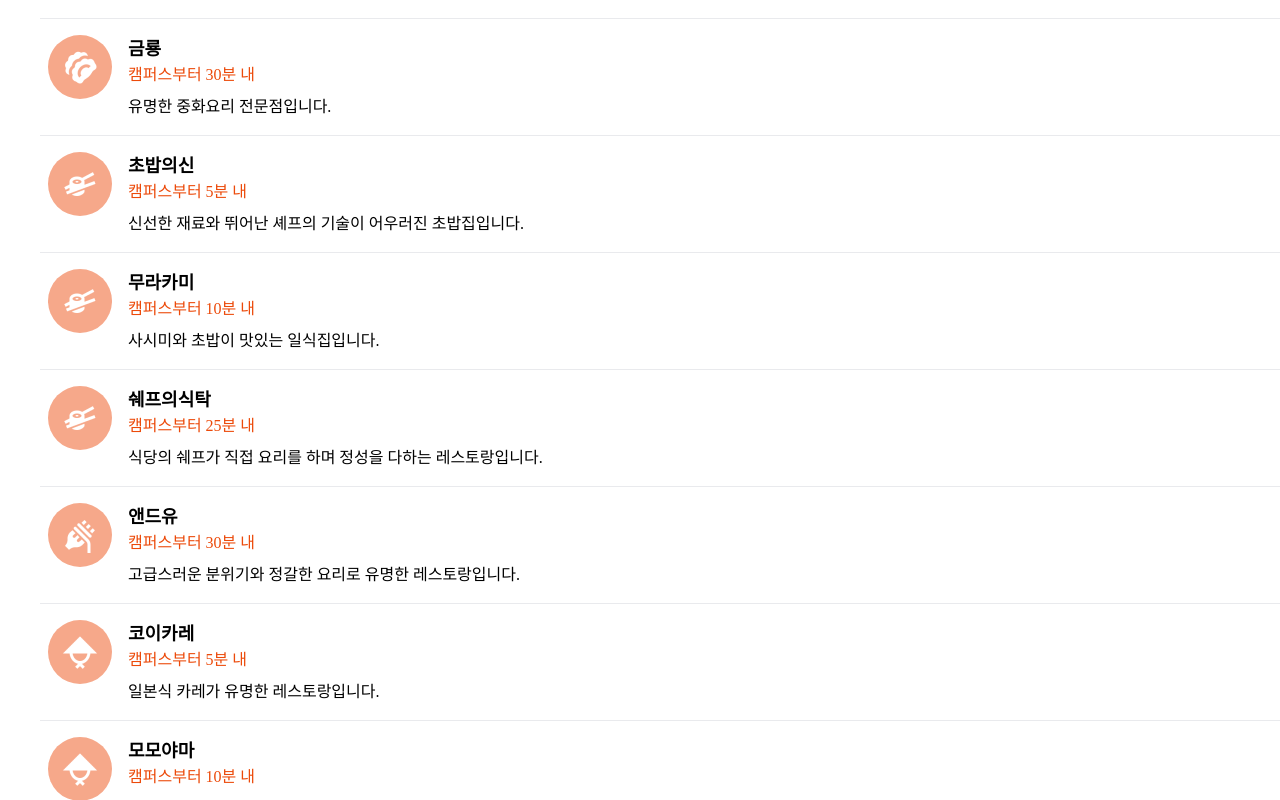
Test case: E2E 테스트 › "쉐프의식탁" 레스토랑을 선택했을 때 Bottom Sheet 창이 나타나야 한다.
(page scrolled)
Click the heading "쉐프의식탁". click: (170, 400)
box: x1=128 y1=390 x2=211 y2=410
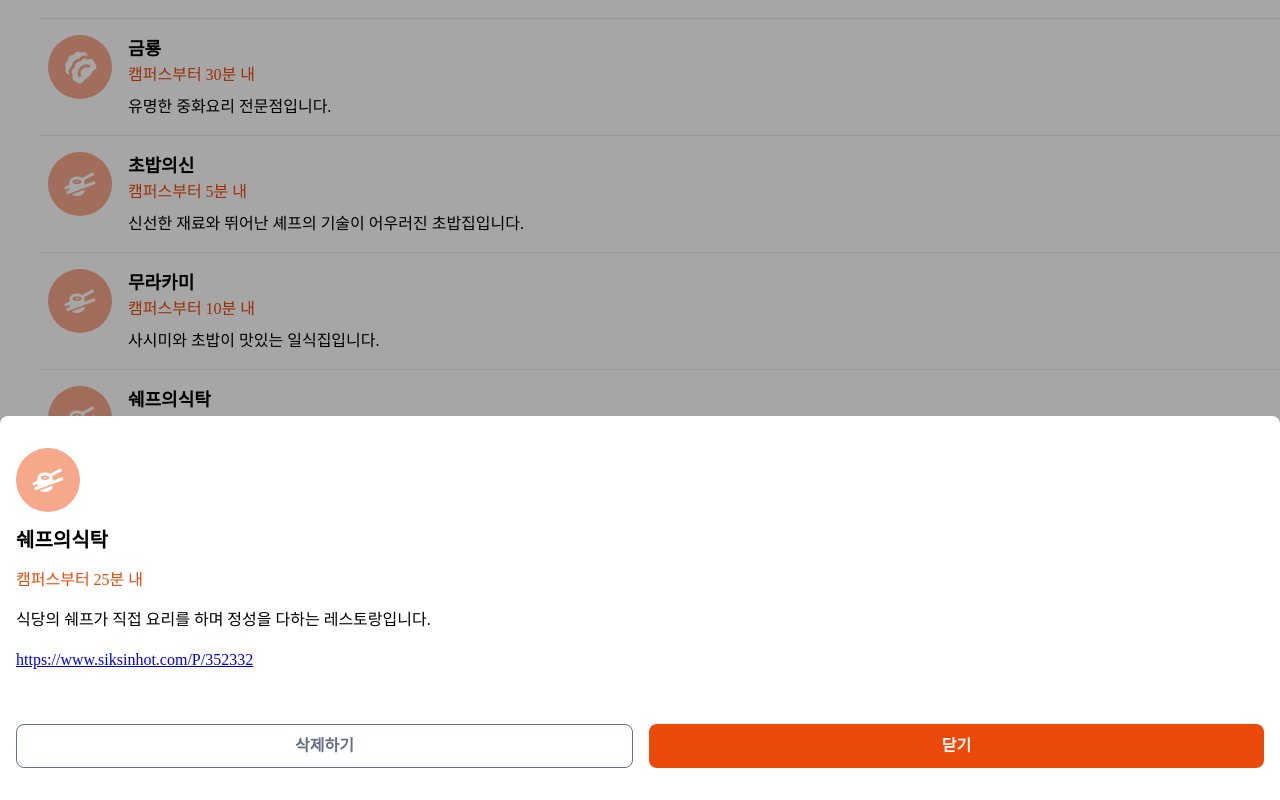
Expected: the element with test id "bottom-sheet" is shown
Click the button with test id "close-button". click: (957, 746)
box: x1=649 y1=724 x2=1264 y2=768
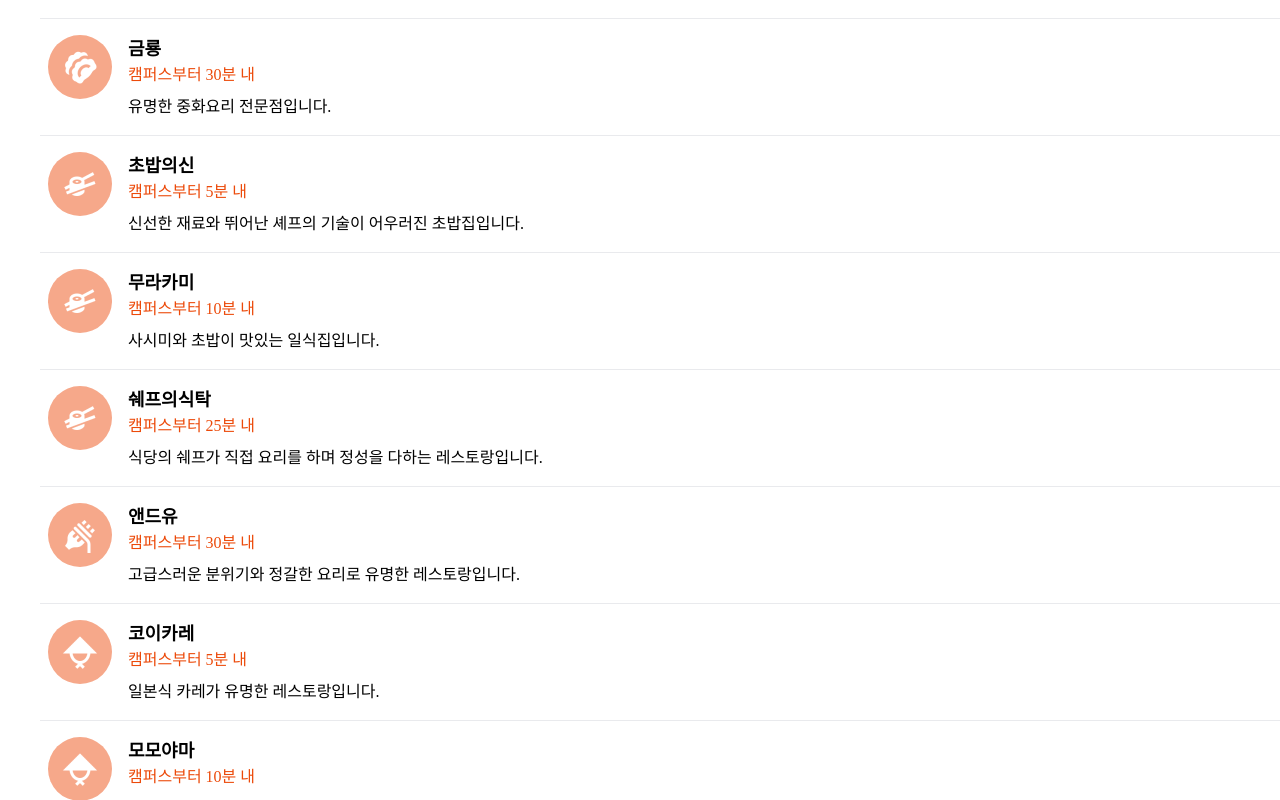
Expected: the element with test id "bottom-sheet" is gone
